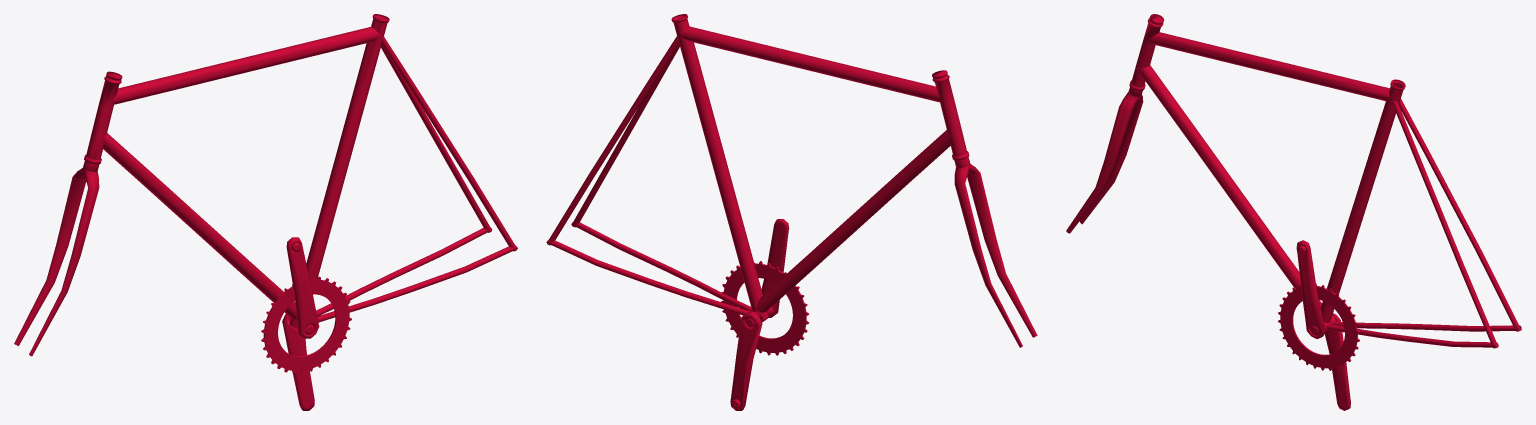
The model's file is frameHighRed.gltf.
3 renders of one model, left to right at view 1: azimuth 30°, elevation 25°; view 2: azimuth 150°, elevation 25°; view 3: azimuth 330°, elevation 25°, orthographic. The views are drawn at different scales.
Parts seen in each view (by area): view 1: FRAME; view 2: FRAME; view 3: FRAME.
Boxes of the visible parts, x1,y1,x2,y2 form: FRAME: (14, 14, 517, 410); FRAME: (546, 14, 1037, 410); FRAME: (1066, 14, 1521, 410).
Bounding box in the file's own units: 2.68 × 2.08 × 0.2766.
